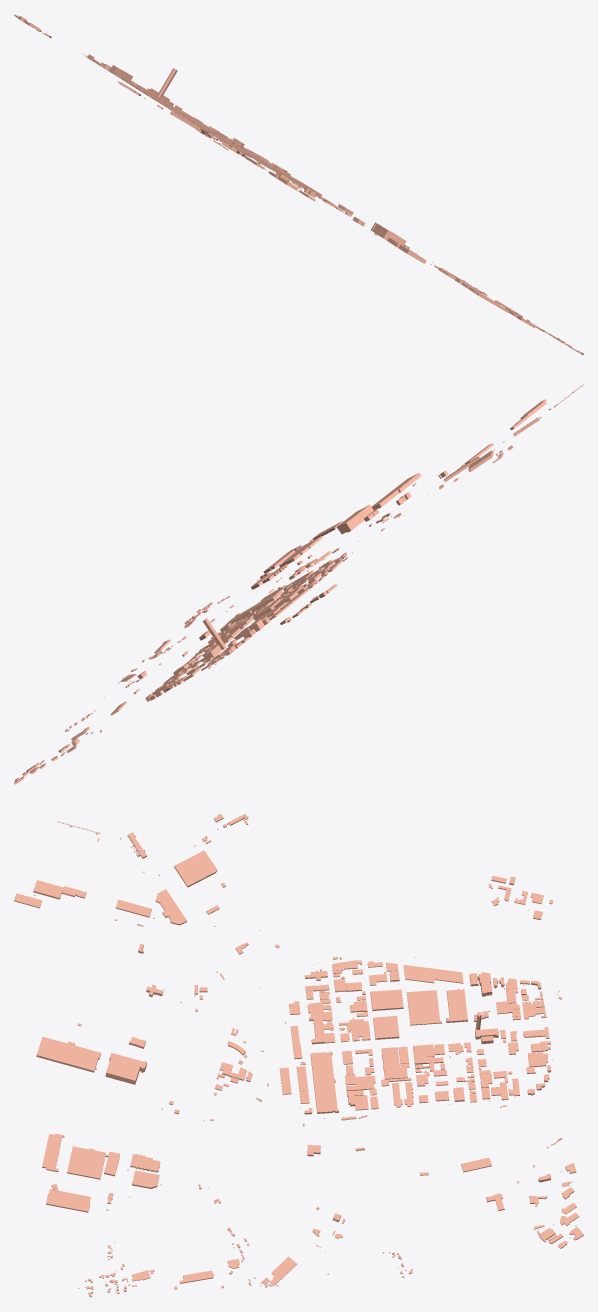
3 renders of one model, top to bottom at view 1: azimuth 30°, elevation 25°; view 2: azimuth 150°, elevation 25°; view 3: azimuth 270°, elevation 25°, orthographic. The views are drawn at different scales.
Bounding box in the file's own units: 1964 × 1506 × 2577.
